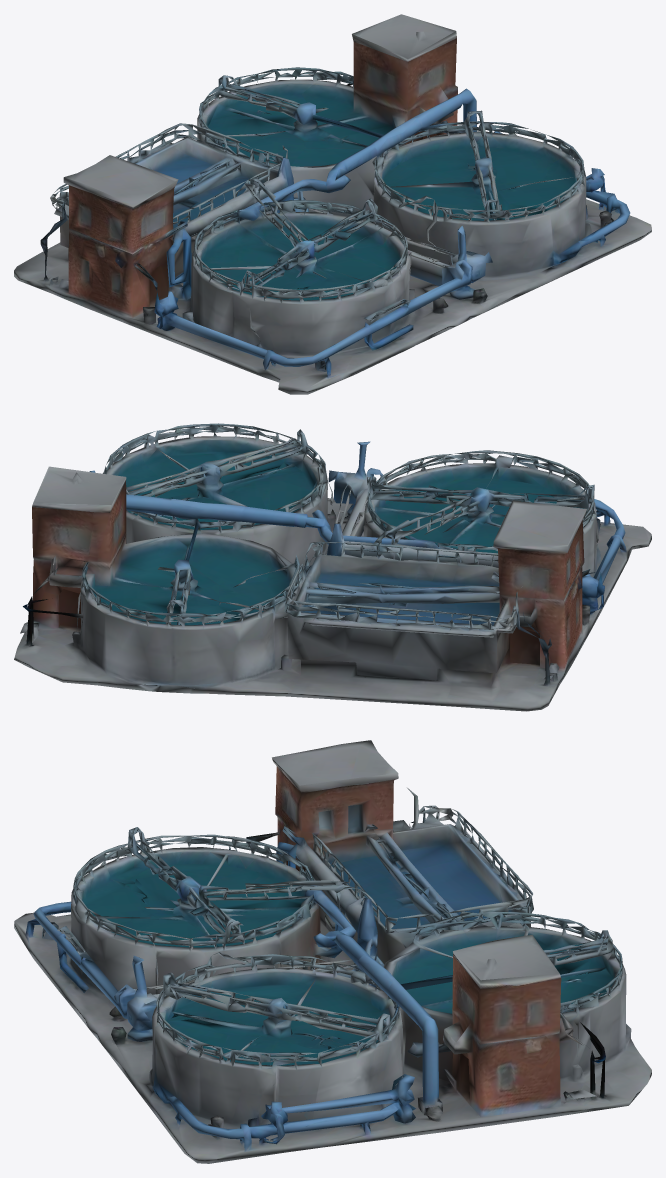
File: water_plant.glb
The picture shows the model from 3 angles, top to bottom: view 1: azimuth 30°, elevation 25°; view 2: azimuth 150°, elevation 25°; view 3: azimuth 270°, elevation 25°; orthographic projection. The views are drawn at different scales.
Parts seen in each view (by area): view 1: tripo_node_9d88cbaa-3418-4796-b592-1579ef28b40f; view 2: tripo_node_9d88cbaa-3418-4796-b592-1579ef28b40f; view 3: tripo_node_9d88cbaa-3418-4796-b592-1579ef28b40f.
Boxes of the visible parts, <box> form: tripo_node_9d88cbaa-3418-4796-b592-1579ef28b40f: <box>14,14,651,394</box>; tripo_node_9d88cbaa-3418-4796-b592-1579ef28b40f: <box>14,423,651,711</box>; tripo_node_9d88cbaa-3418-4796-b592-1579ef28b40f: <box>14,740,651,1163</box>.
Bounding box in the file's own units: 1 × 0.2382 × 0.9255.
1 material, 1 textured.
